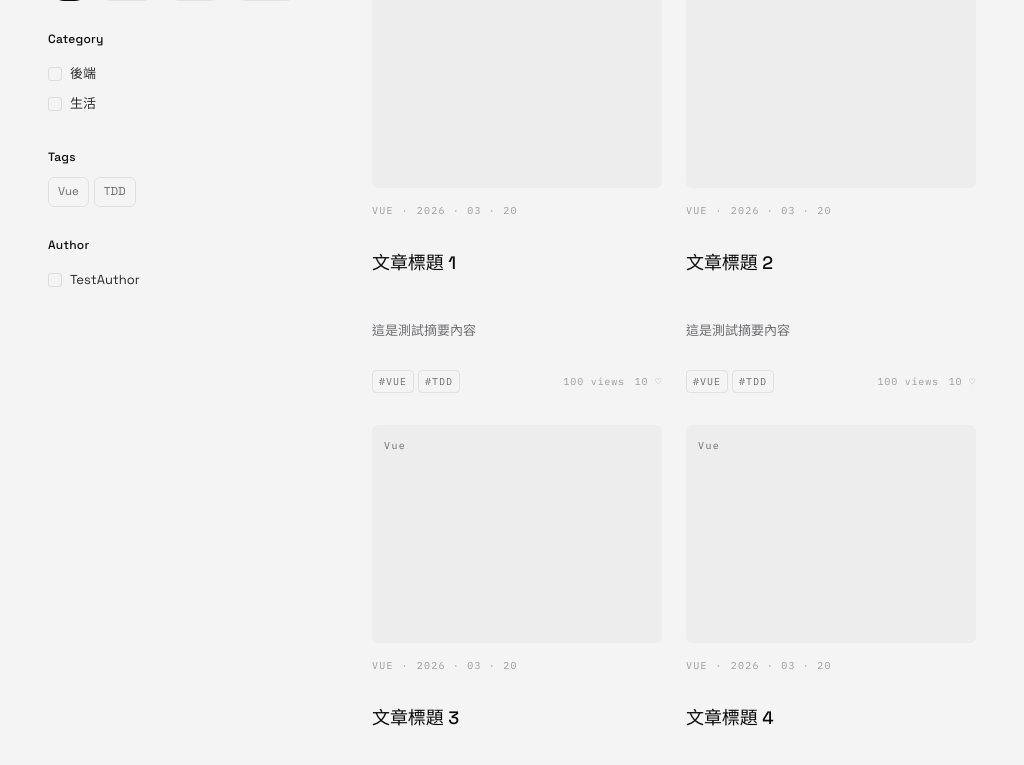
Test: ArticleList 頁面 › 選 tag filter 後 active filters 區域顯示已選 tag（client-side 過濾連動）
The width and height of the screenshot is (1024, 765).
(page scrolled)
Step 1. Click the button with class "mini-tag" below "文章標題 1" → (393, 382), box [372,370,414,393]
(page scrolled)
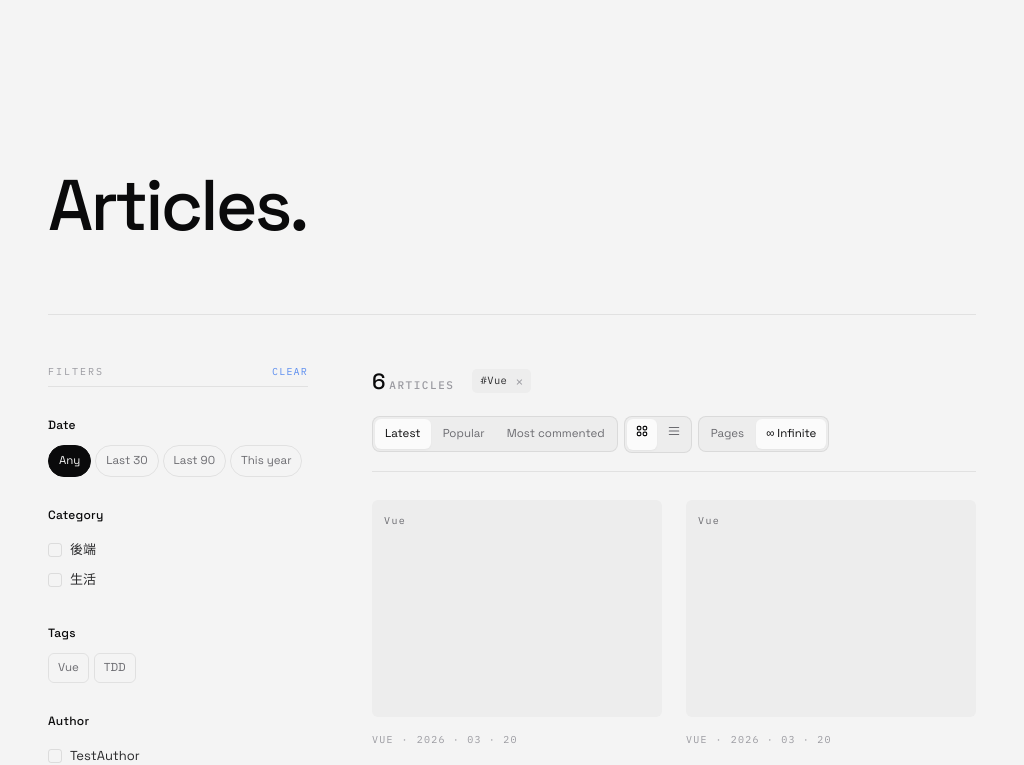
Check: the element with class "art-active-filters" is shown, box [472,369,531,393]
Check: the element with class "art-active-filters" shows "Vue", box [480,373,507,387]
